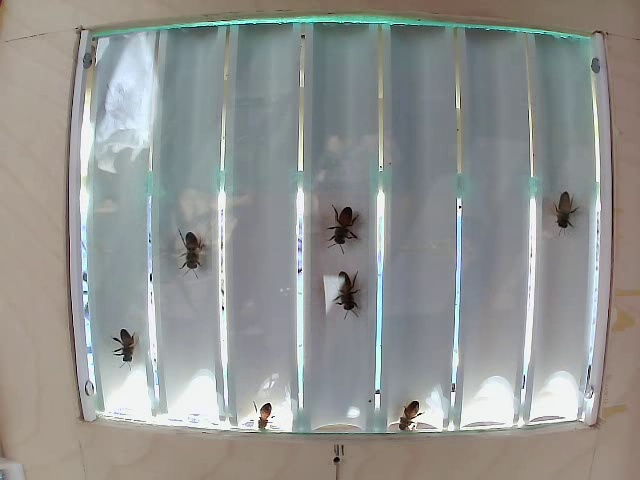bee: (320, 268, 372, 325), (170, 222, 218, 283), (110, 312, 154, 370), (321, 210, 369, 259), (548, 188, 582, 231)
